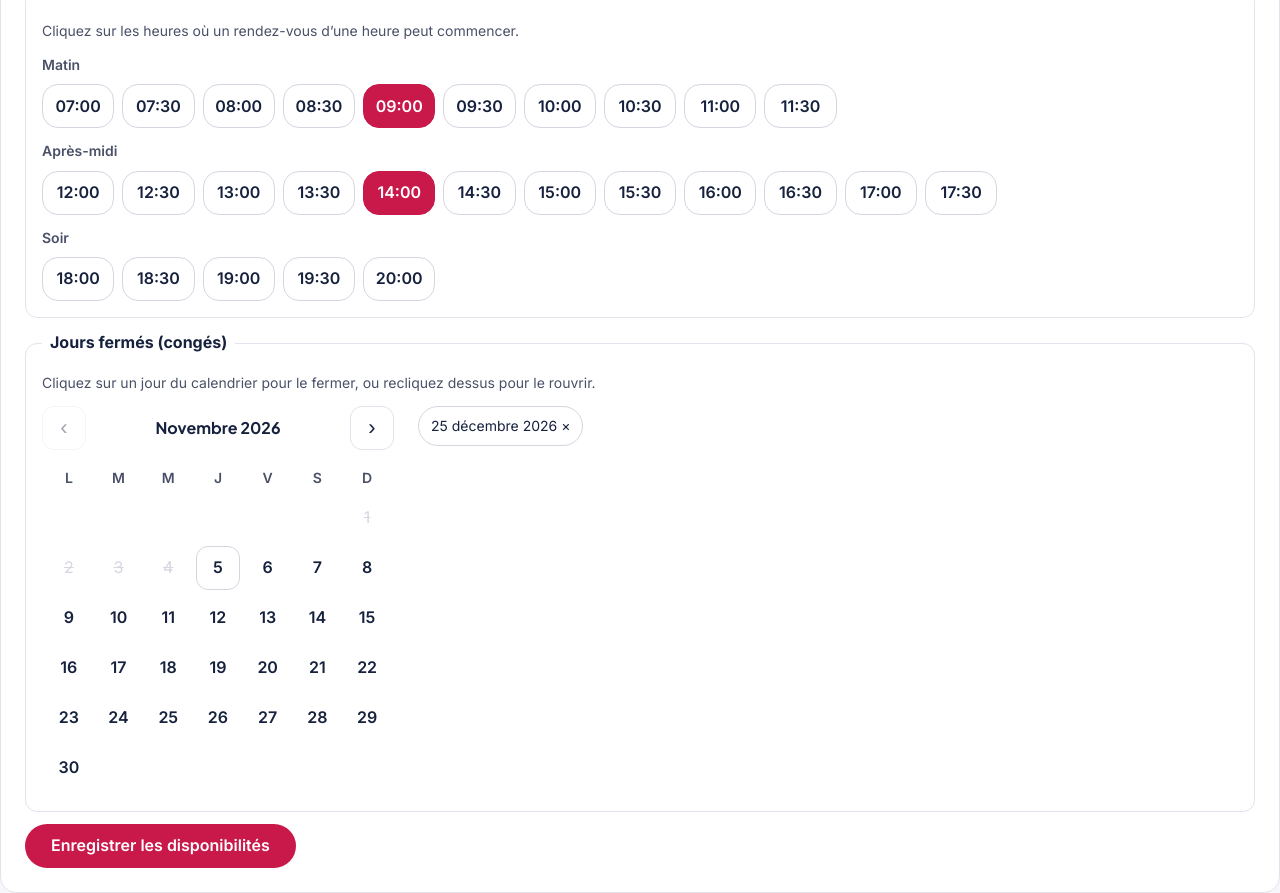
Test: Back-office : disponibilités › un clic dans le calendrier ferme un jour, un second clic le rouvre
(page scrolled)
Click the button named "mardi 17 novembre 2026" at point(119, 668), box [97,646,140,690]
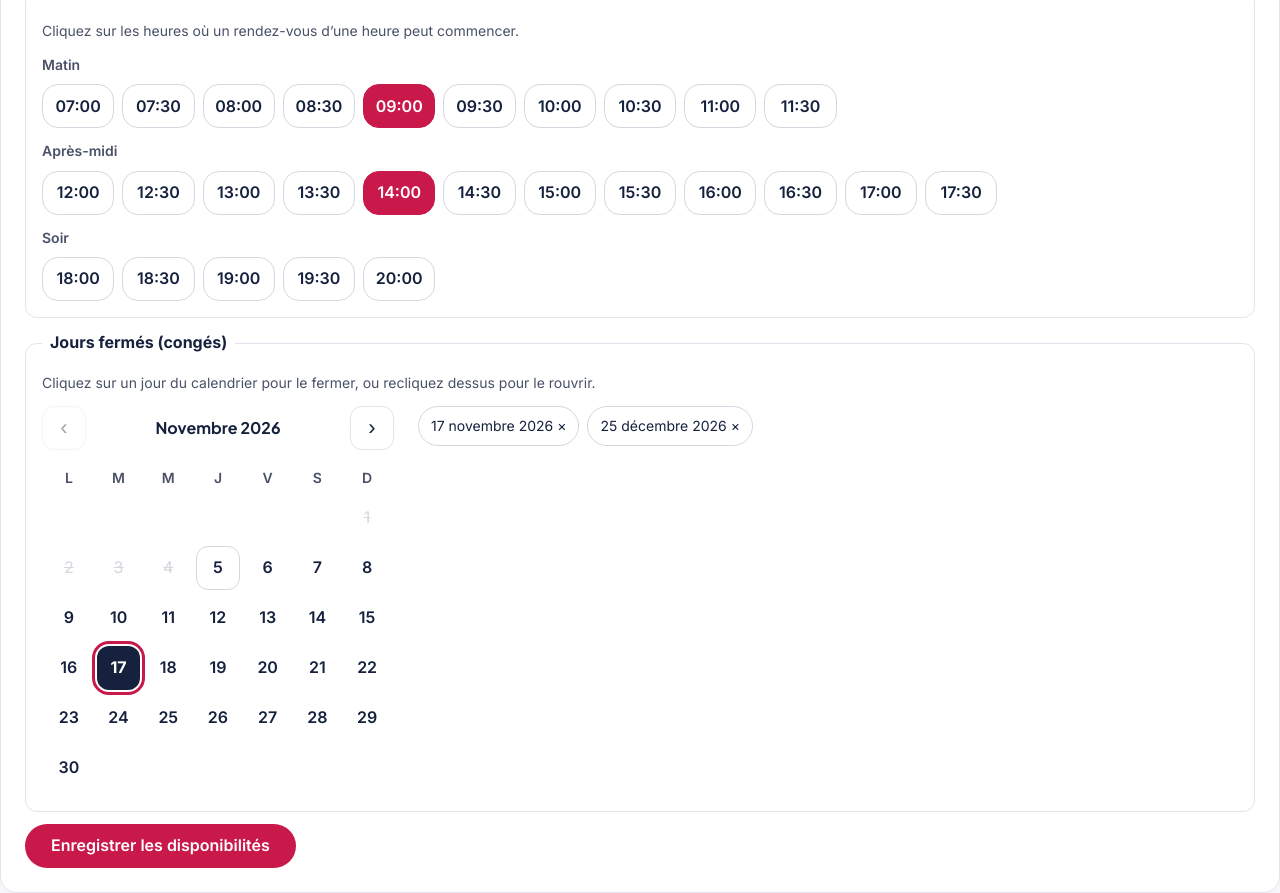
Now the button with aria-label "Rouvrir le 17 novembre 2026" is shown, box [418,406,580,446]
Click the button named "mardi 17 novembre 2026, fermé" at point(119, 668), box [97,646,140,690]
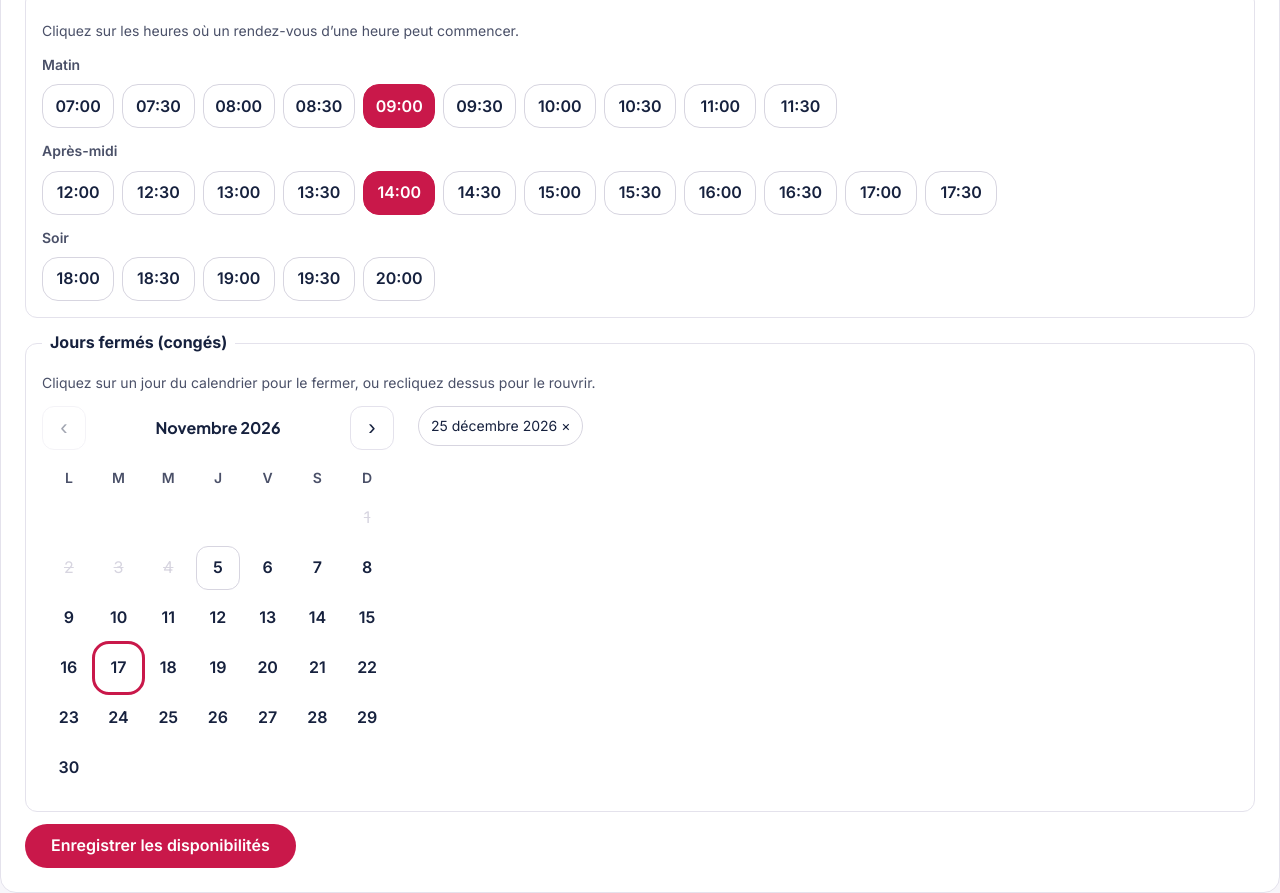
Click the button named "mercredi 18 novembre 2026" at point(168, 668), box [146,646,190,690]
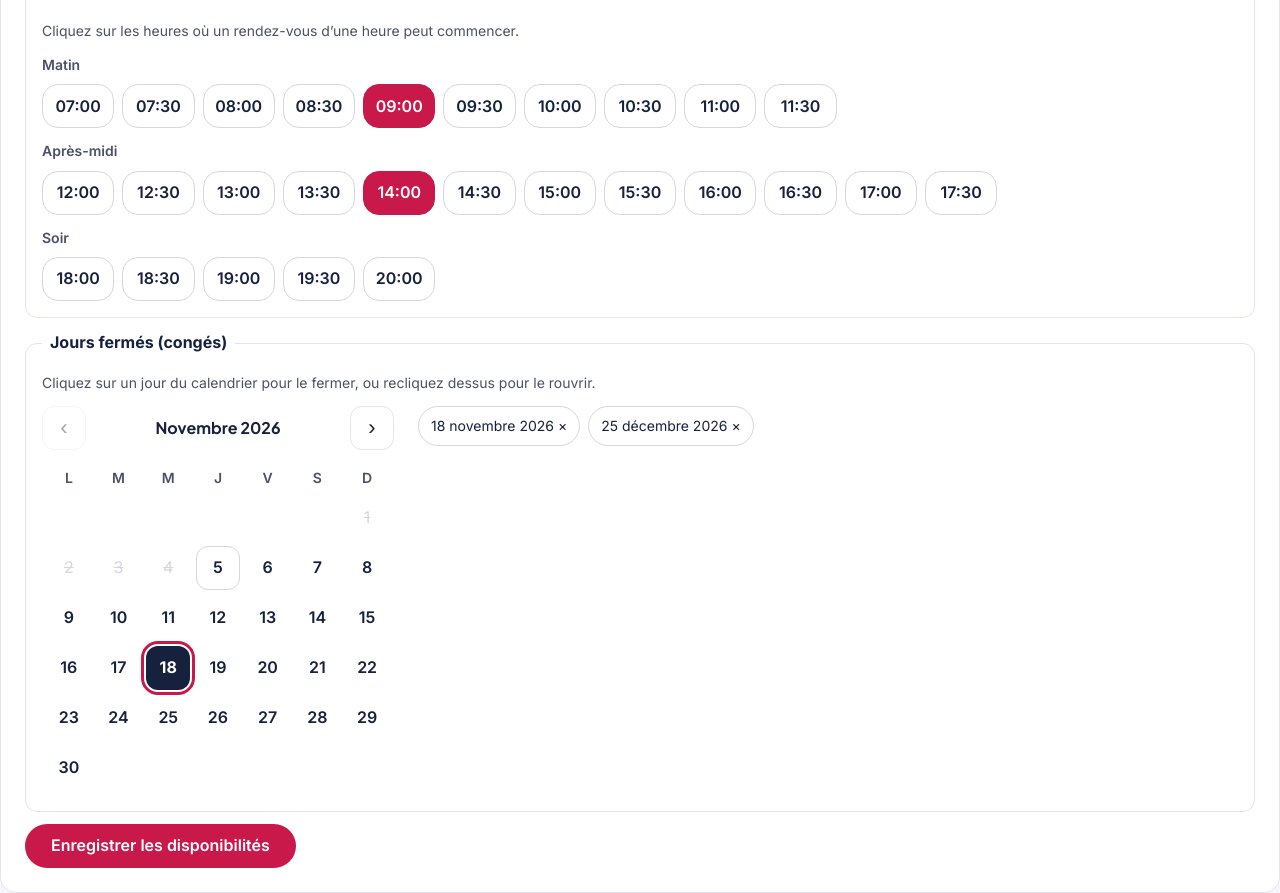
Click the button "Enregistrer les disponibilités" at point(160, 846), box [25,824,296,868]
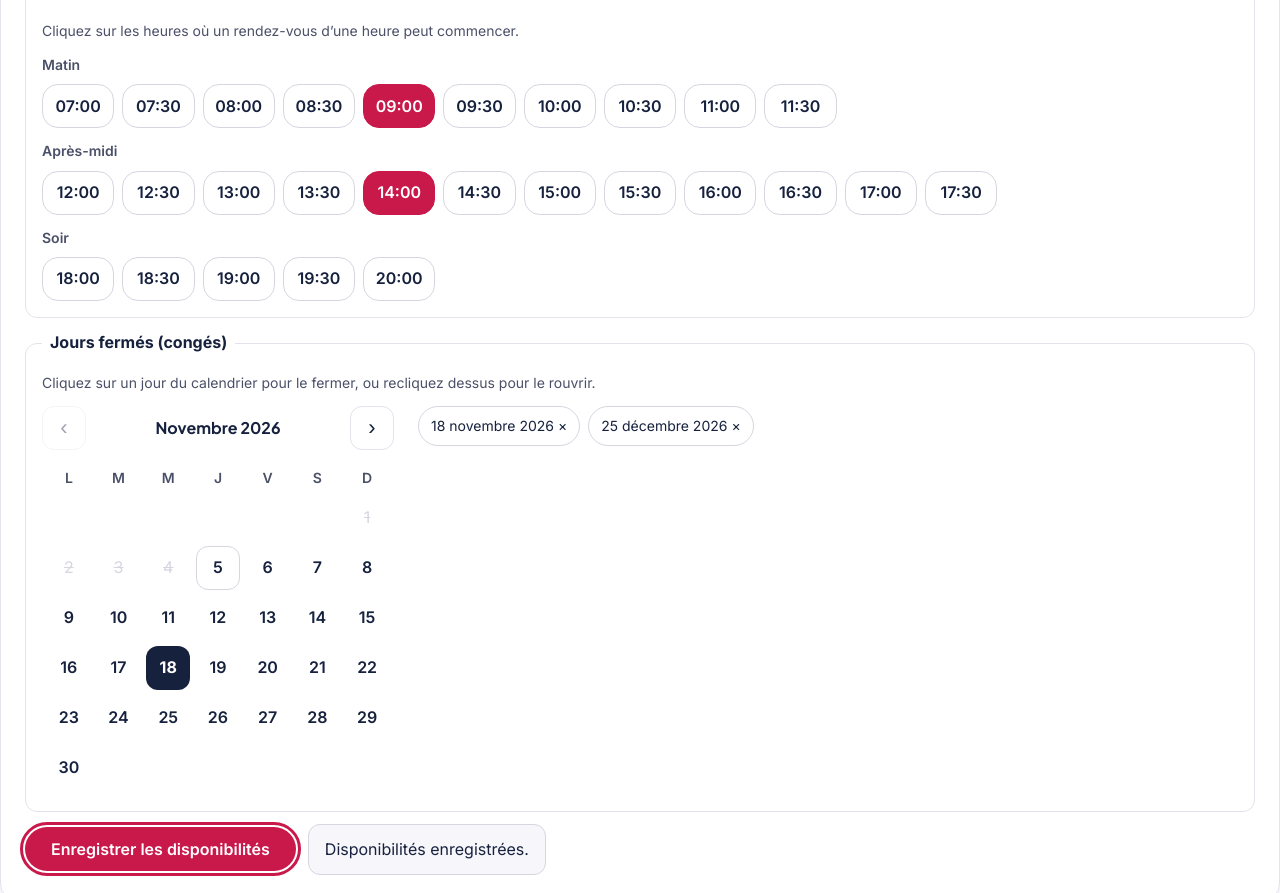
Now the message "Disponibilités enregistrées." is shown, box [308,824,546,875]
